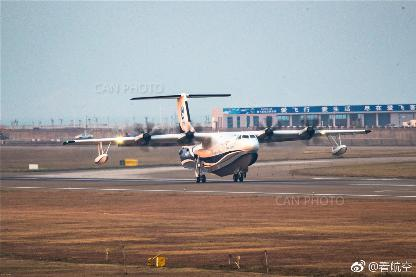AG600: (62, 92, 372, 181)
